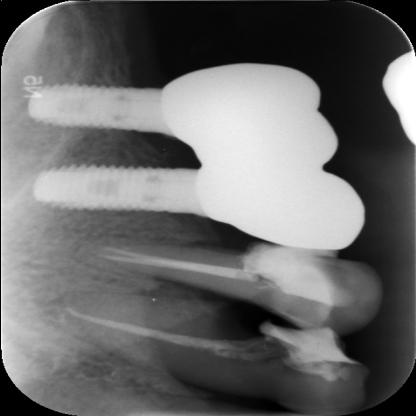ITI: (32, 163, 200, 217), (20, 78, 164, 135)
